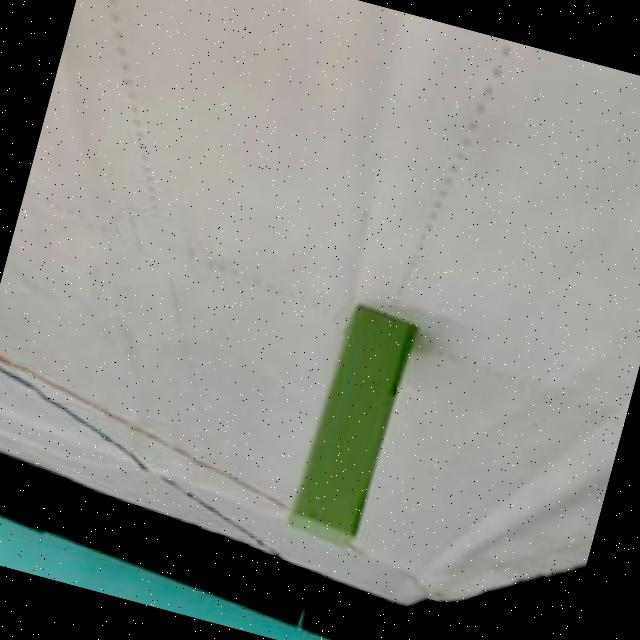greenbox: (279, 294, 420, 552)
